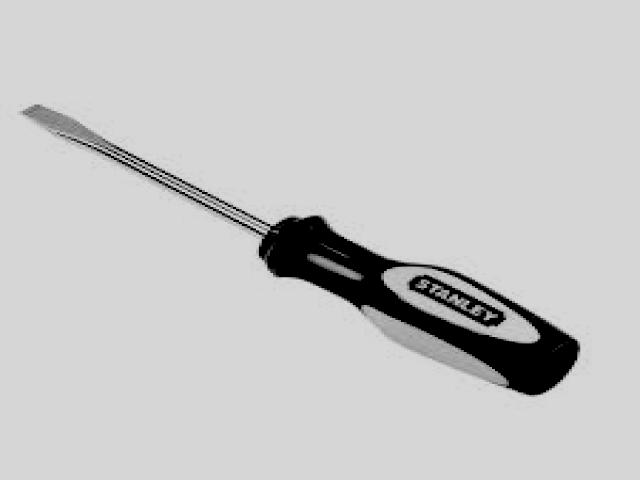Screwdriver: (22, 105, 579, 393)
